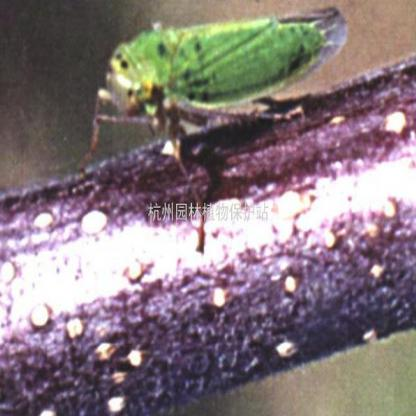Green-Leafhopper: (82, 7, 348, 173)
